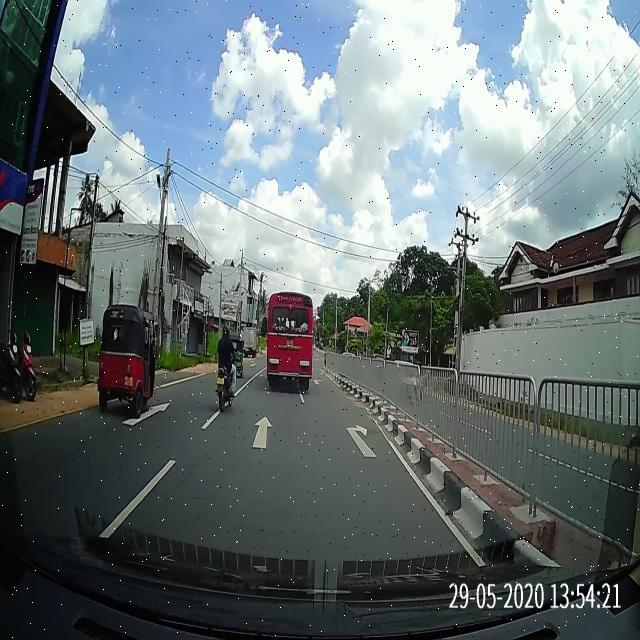forward: (168, 391, 324, 466)
